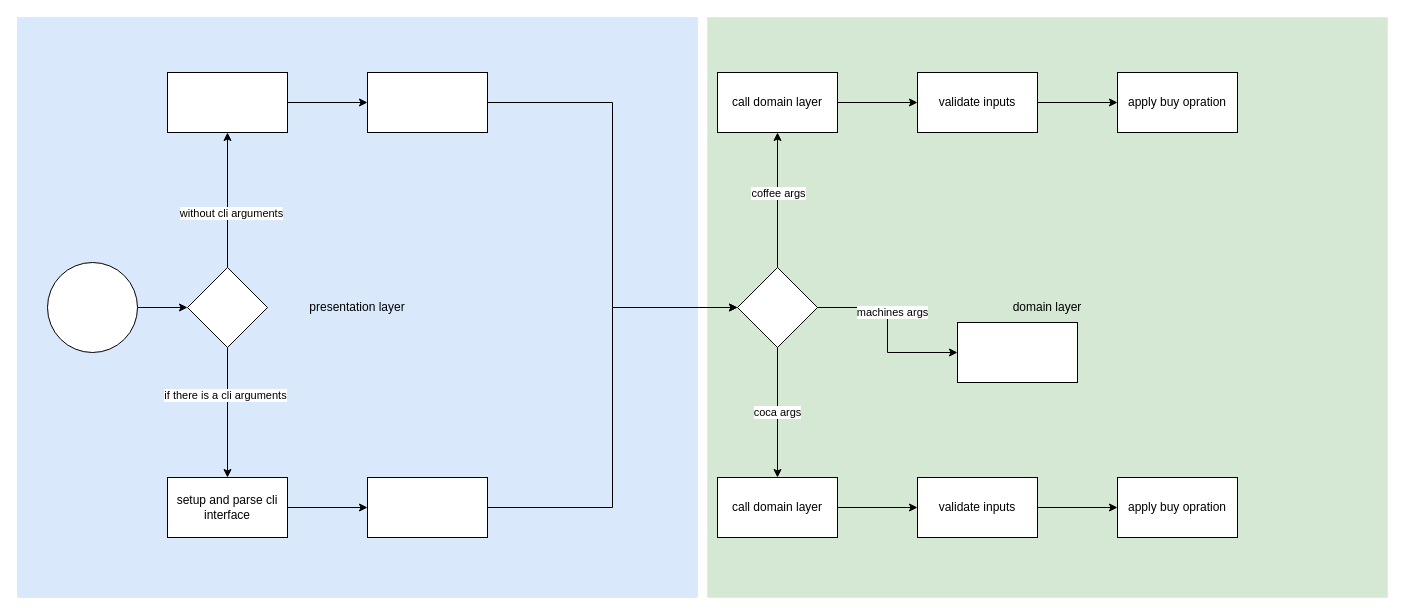
Image size: 1404x614. Some labels were removed from this diagram. Here are the shapes that lost their labels. From the top down, the centre of each, then its label:
(227,102): serve app on specific http port
(427,102): cast http input into domain input
(92,307): entry_point
(1017,352): get domain machine list
(427,507): cast inputs
